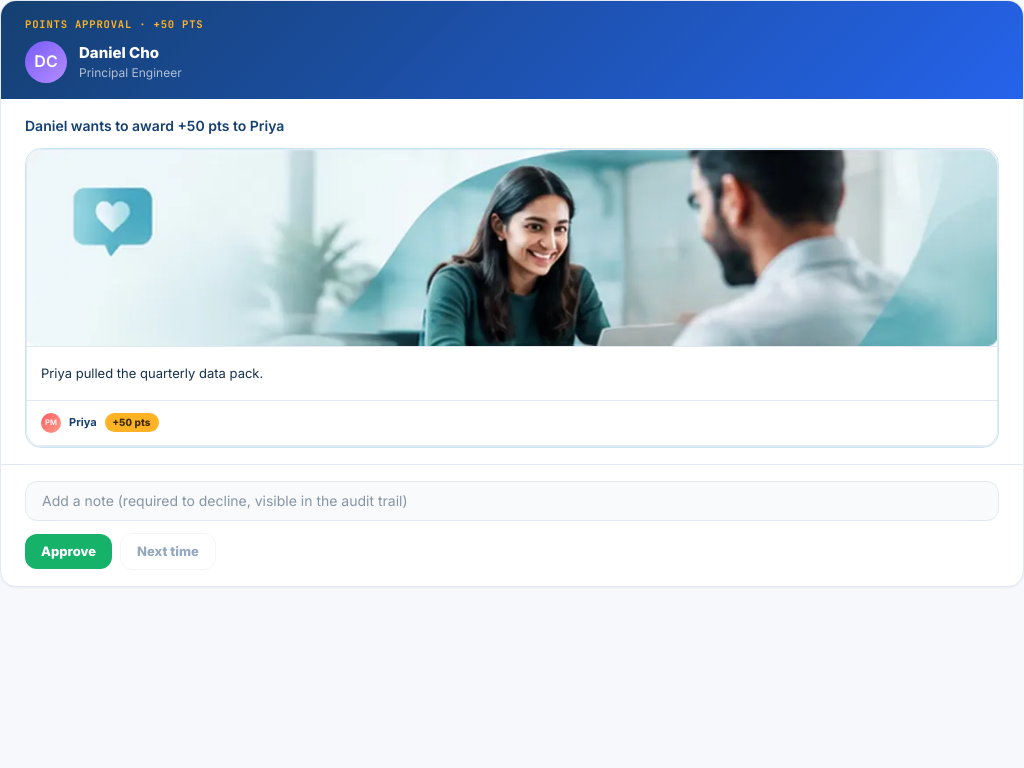
Test: ApprovalDetail — decision-note branches (sir round 1) › Approve clears the typed note after recording
In the field named "Decision note": (512, 501) 25,481 -> 999,521, type "goes ahead as asked"
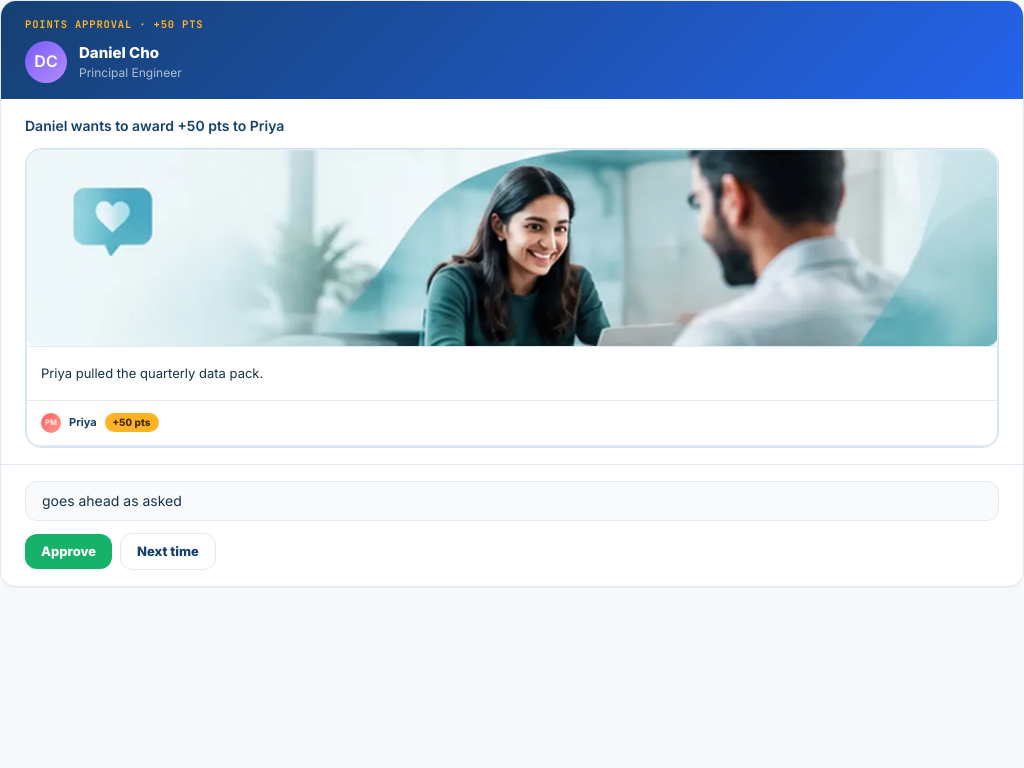
Click the button "Approve": (69, 551) 25,534 -> 112,569
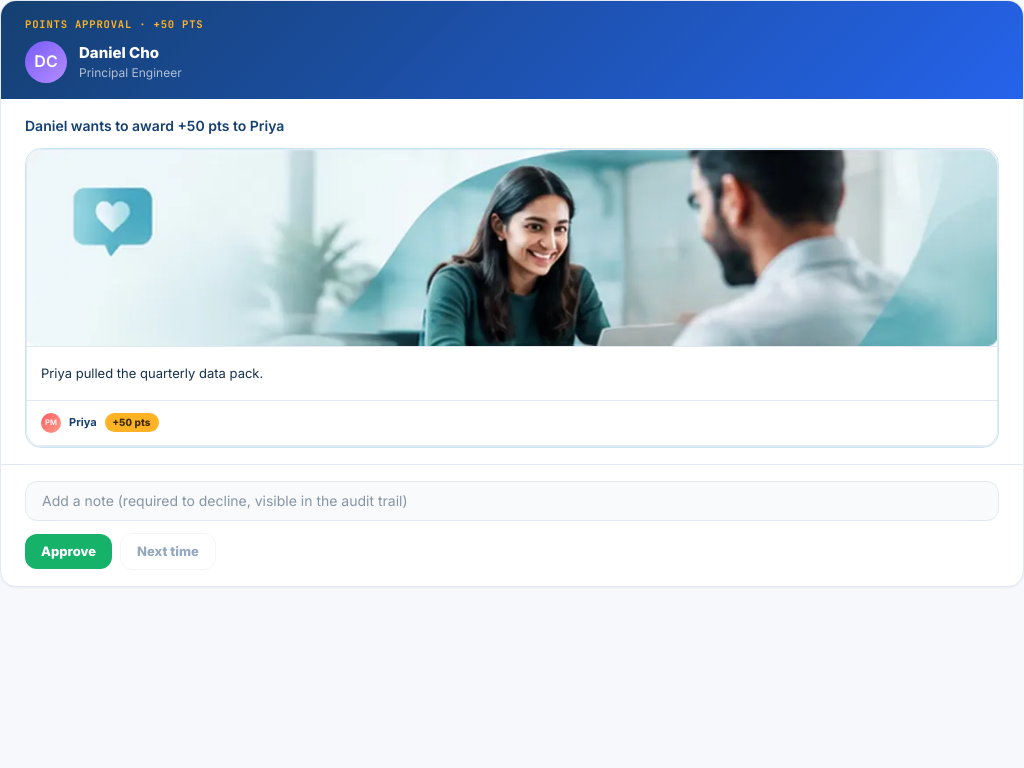
Now the field named "Decision note" is empty, box 25,481 -> 999,521
